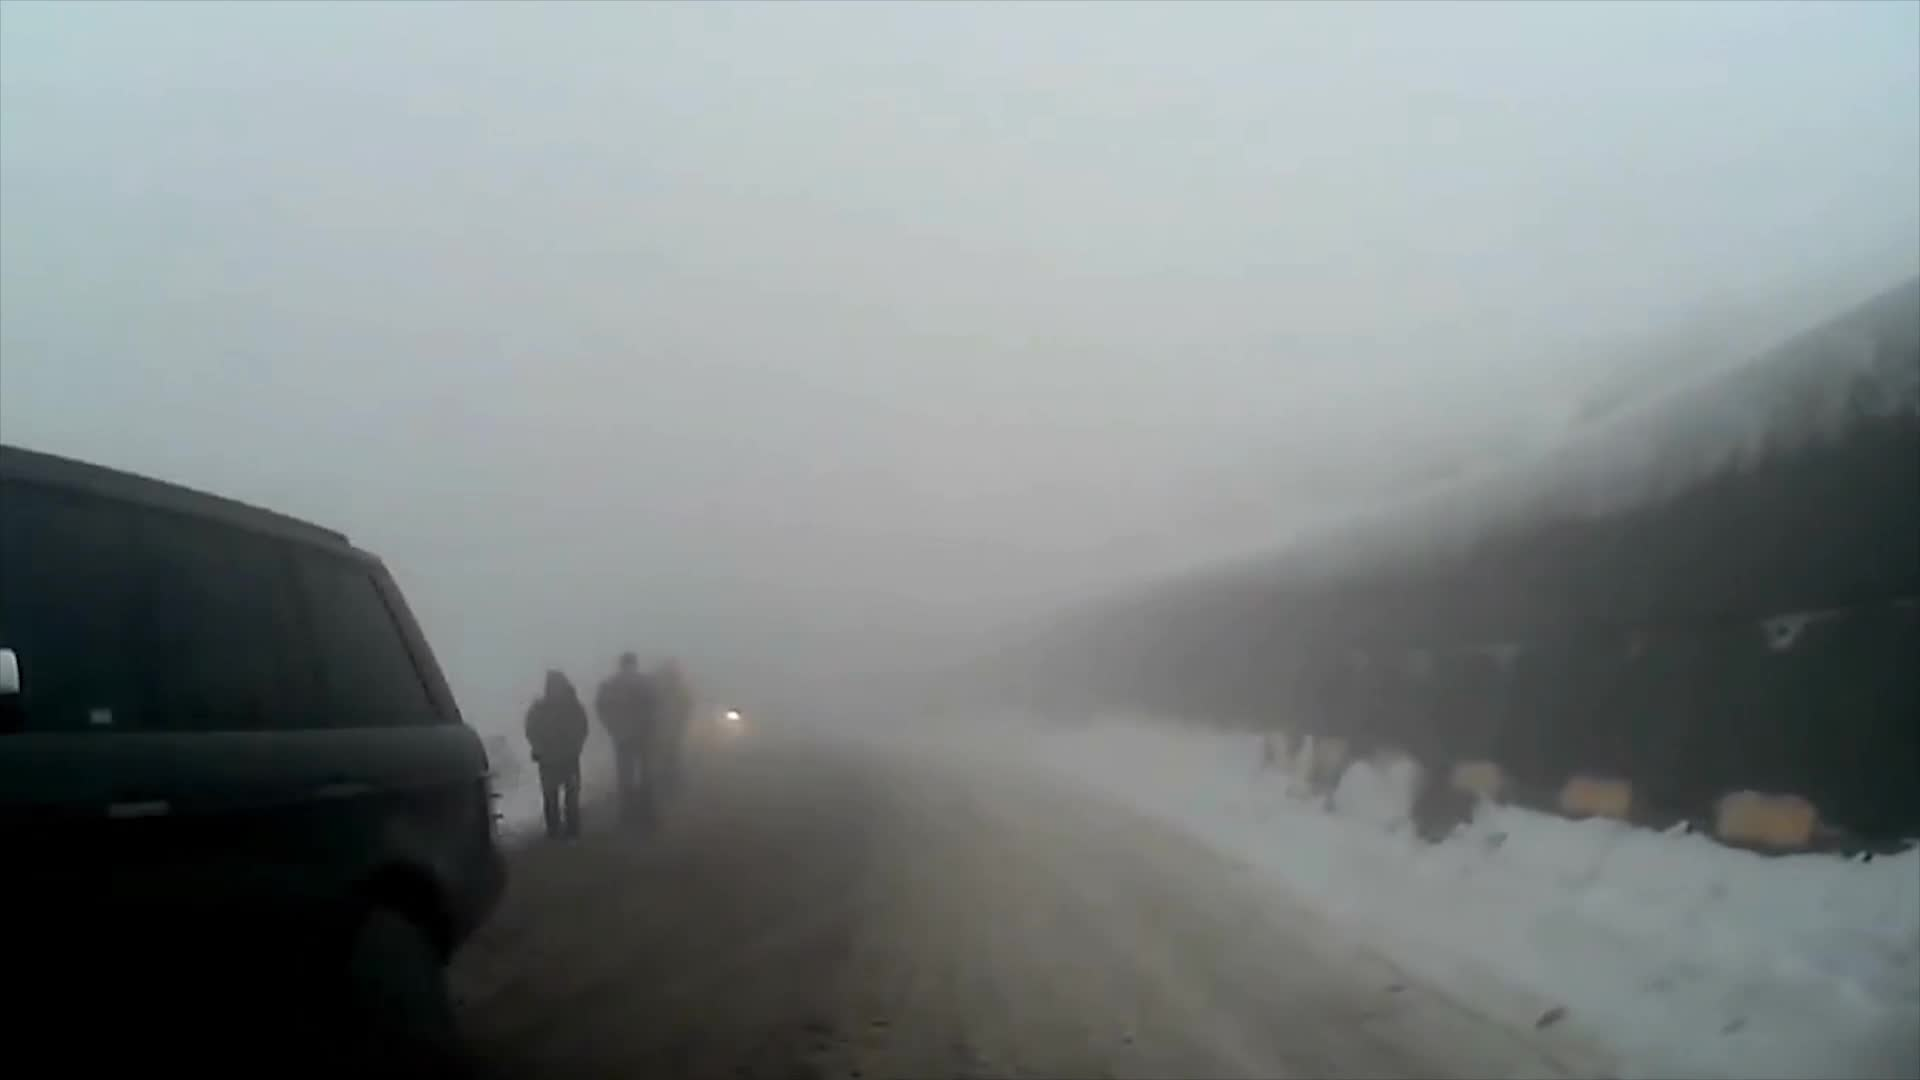pedestrian: (521, 671, 594, 846), (594, 652, 662, 826)
vehicle: (0, 430, 507, 1079)
